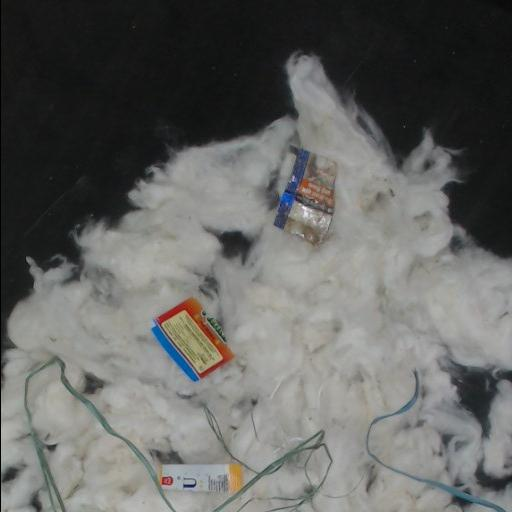conveyor belt: (1, 0, 512, 335), (453, 367, 495, 429), (219, 233, 248, 255)
cotton: (1, 53, 512, 511)
packet: (153, 298, 233, 381), (273, 148, 336, 244), (159, 464, 242, 491)
thread: (24, 357, 175, 511), (365, 370, 505, 511), (203, 407, 332, 511)
